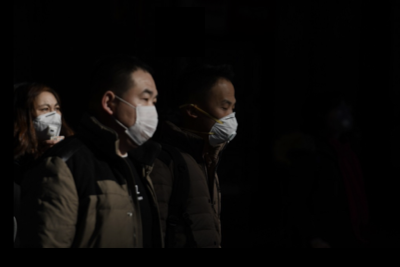with_mask: (124, 86, 159, 144), (207, 95, 237, 144), (35, 100, 63, 141)
